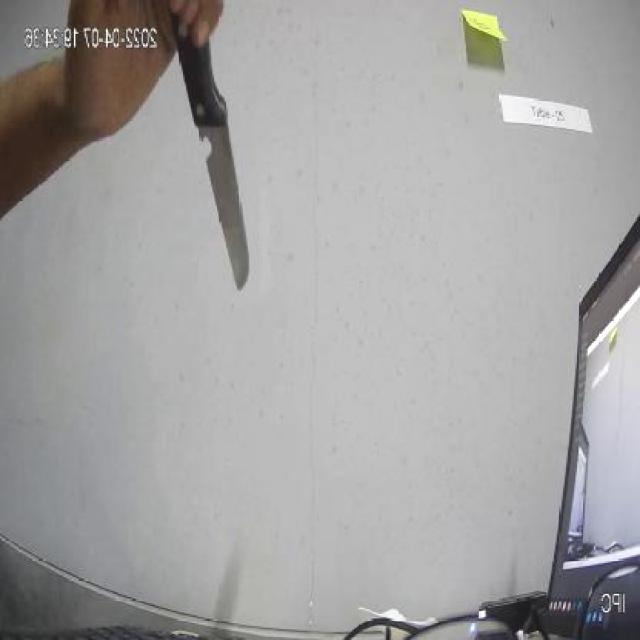knife: (168, 5, 252, 328)
